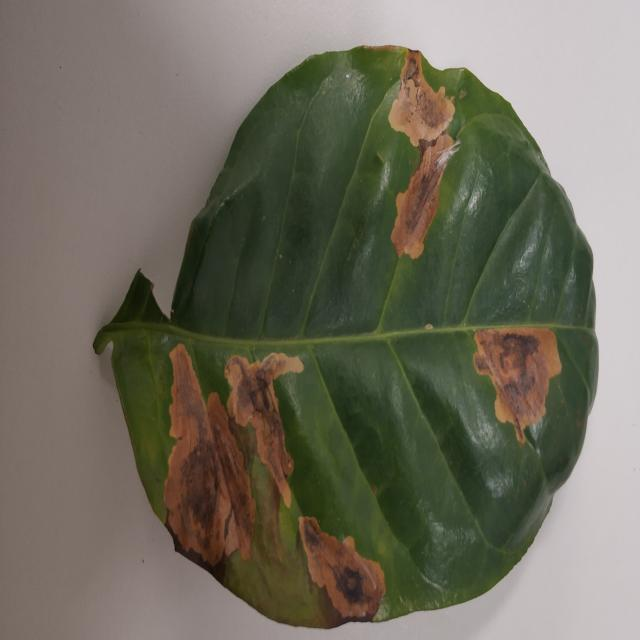Plaga-Minador: (91, 45, 601, 632)
